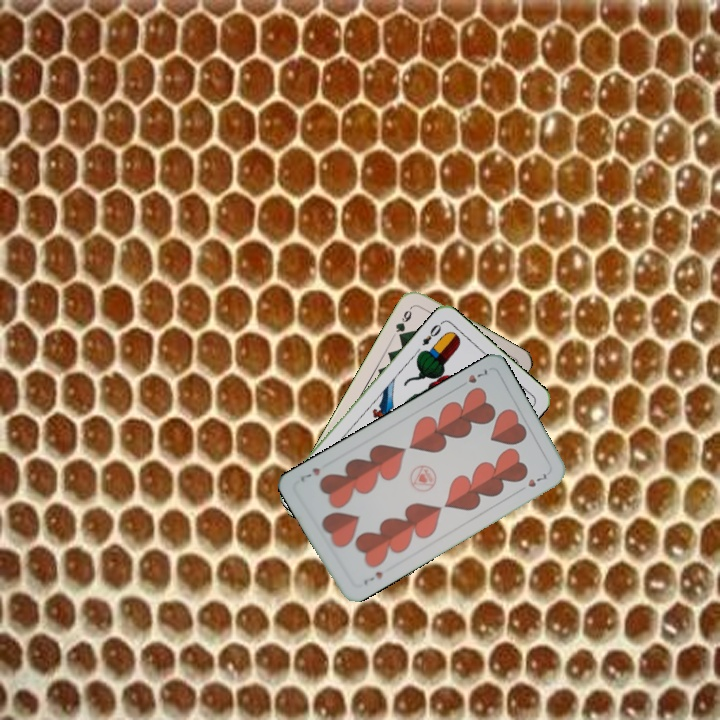EO: (418, 318, 446, 348)
G9: (391, 302, 416, 341)
H7: (454, 364, 491, 390), (360, 567, 385, 588)
